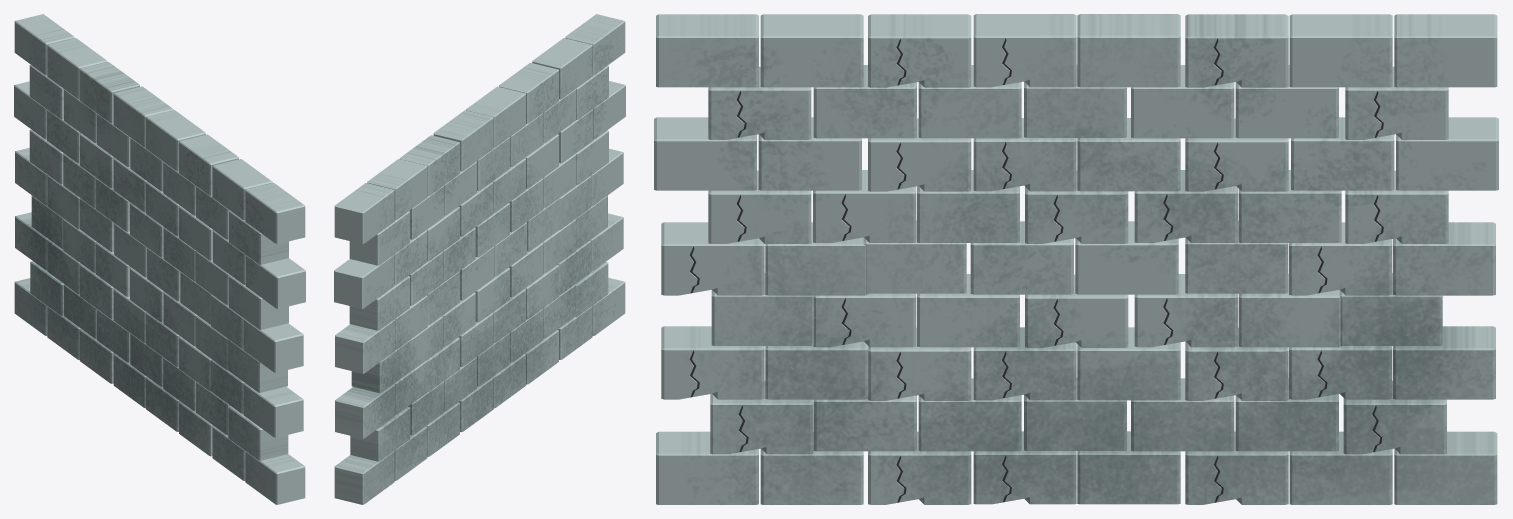
Rendered from parede sem janela.fbx.
The picture shows the model from 3 angles, left to right: view 1: azimuth 30°, elevation 25°; view 2: azimuth 150°, elevation 25°; view 3: azimuth 270°, elevation 25°; orthographic projection. The views are drawn at different scales.
Parts seen in each view (by area): view 1: Cube.011; view 2: Cube.011; view 3: Cube.011.
Boxes of the visible parts, x1,y1,x2,y2 form: Cube.011: (14, 14, 305, 504); Cube.011: (334, 14, 625, 504); Cube.011: (654, 14, 1498, 504).
Bounding box in the file's own units: 152 × 1435 × 2345.
